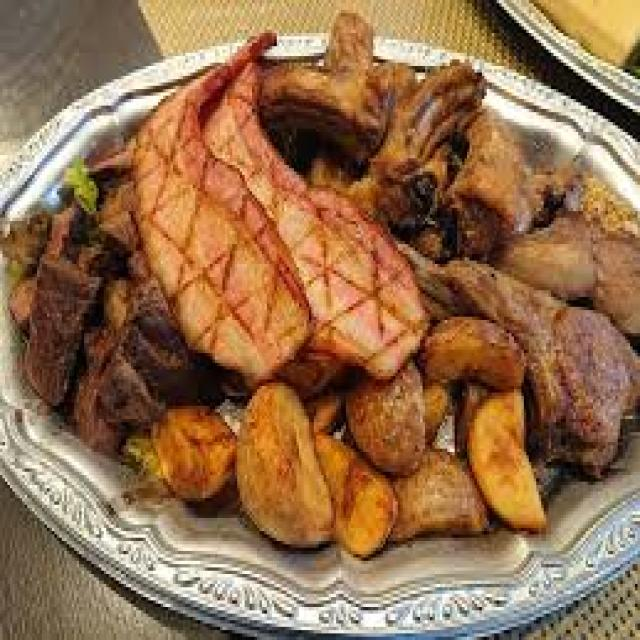organic waste: (200, 59, 425, 376), (128, 26, 309, 373), (440, 254, 637, 468), (373, 56, 484, 231), (227, 373, 331, 551), (262, 59, 415, 162), (450, 109, 566, 228), (462, 379, 544, 532), (22, 254, 102, 402), (492, 198, 598, 303), (124, 280, 208, 396), (314, 432, 395, 551), (146, 399, 235, 502), (386, 445, 484, 538), (343, 359, 422, 472), (417, 310, 524, 389), (89, 330, 153, 425), (593, 218, 638, 336), (74, 324, 111, 436), (576, 168, 638, 234), (94, 178, 136, 257), (49, 204, 104, 264), (324, 7, 376, 69), (0, 207, 49, 260), (102, 277, 134, 340), (5, 260, 35, 326), (57, 155, 91, 205), (423, 373, 447, 442), (86, 142, 128, 171), (126, 248, 151, 290)
